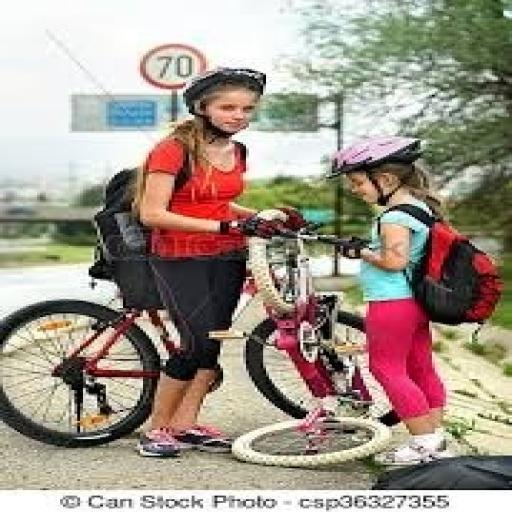cycling: (129, 66, 303, 459)
